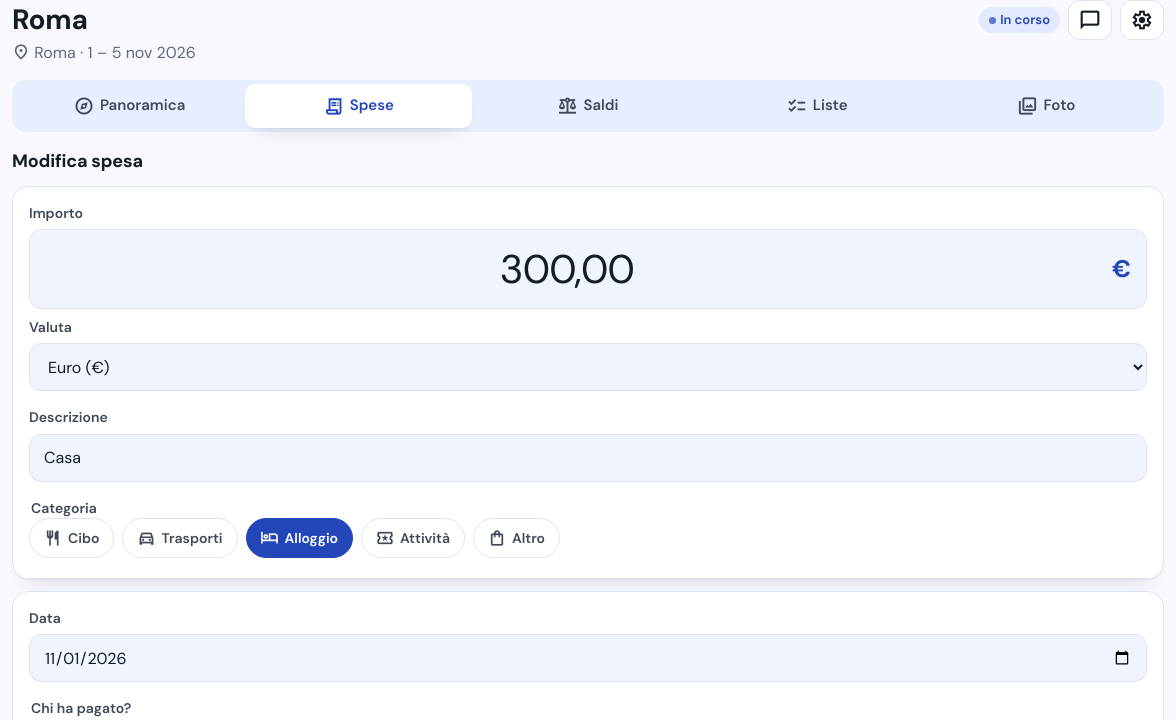
Test: ExpenseFormPage › una spesa per peso già salvata, lasciata com'è, resta per peso: i conti di prima non cambiano
Step 1. Replace the text in the field labelled "Descrizione" with "Casa al mare" → {"x": 588, "y": 458}, box [29,434,1147,482]
(page scrolled)
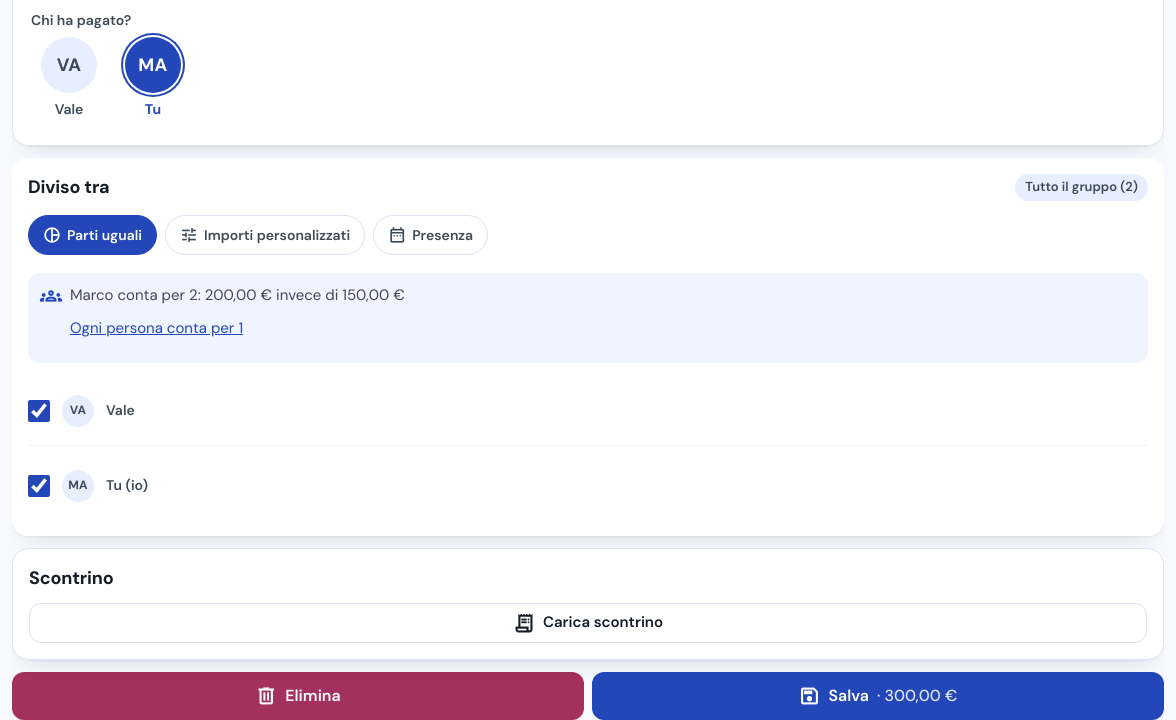
Step 2. Click the button "Salva · 300,00 €" → {"x": 878, "y": 696}, box [592,672,1164,719]
(page scrolled)
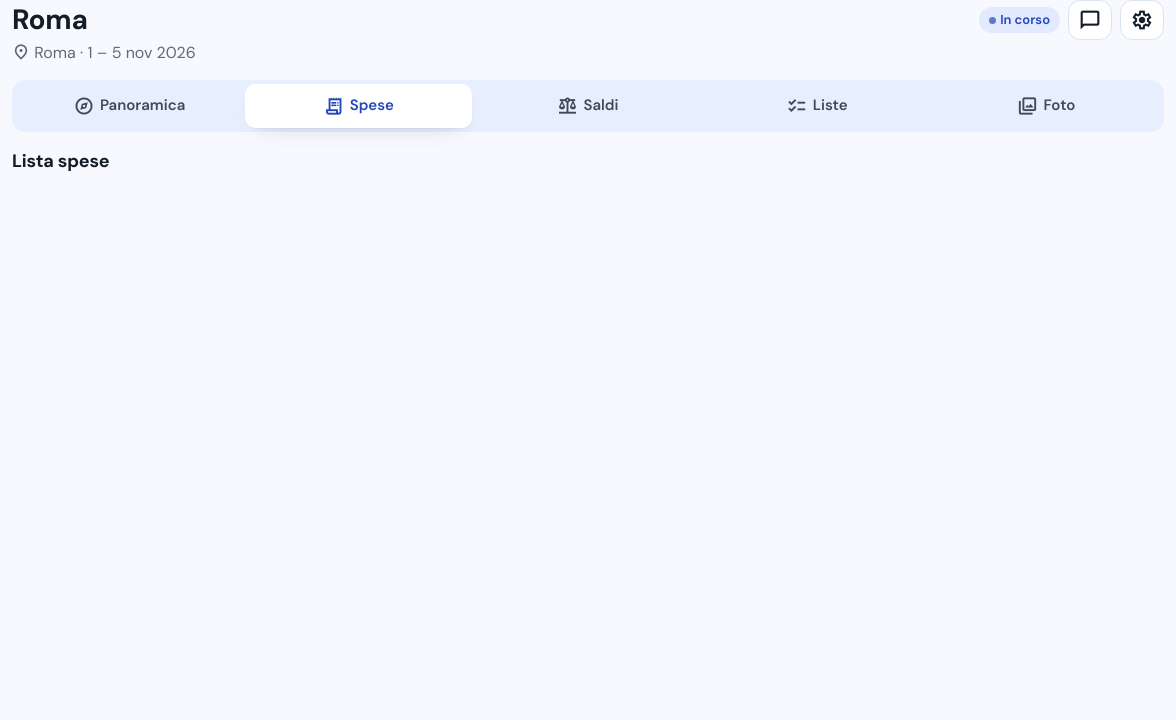
Result: the heading "Lista spese" is shown at [12,149,110,173]
